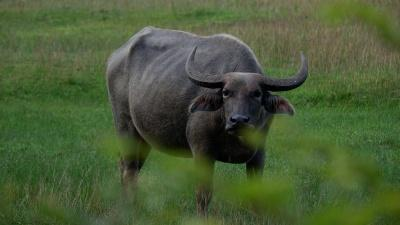buffalo: (107, 26, 307, 213)
